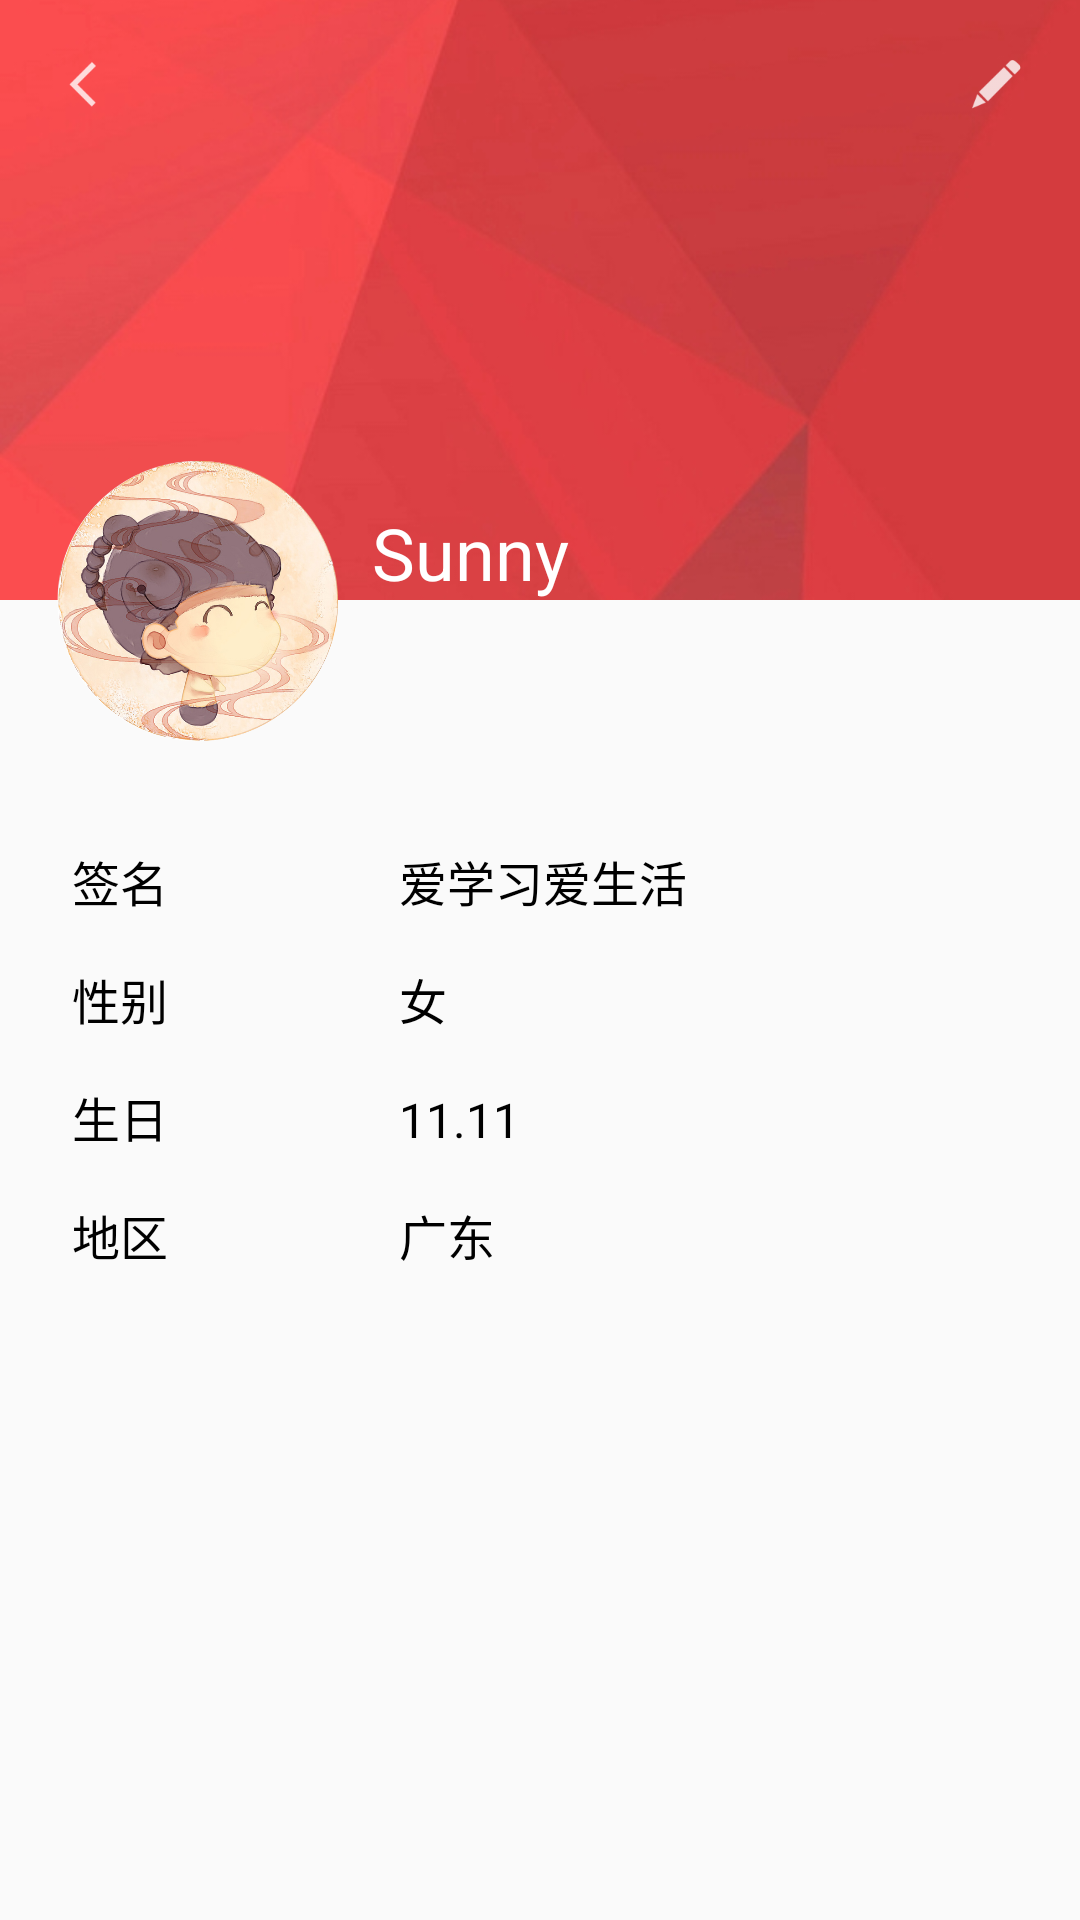

Point at icon controls on the screen. Image size 1080 x 1920, points as [x,y].
pen: [996,84]
return: [82,84]
touxiang: [198,600]
